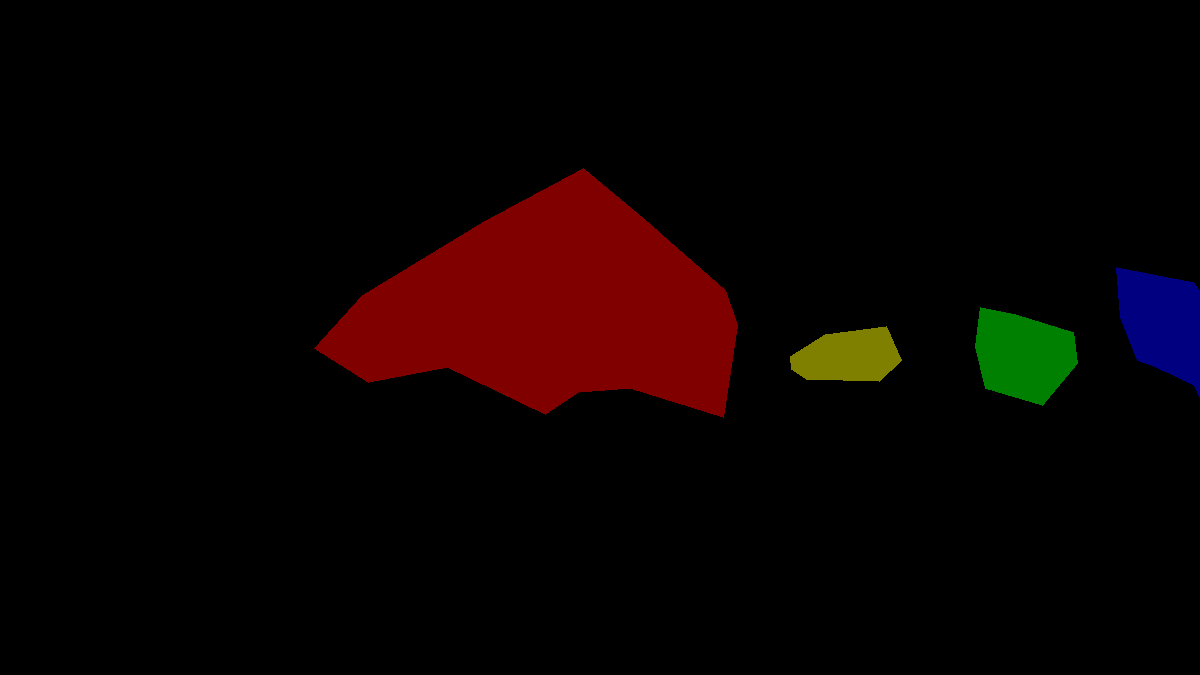fire: (314, 168, 737, 417), (1116, 267, 1200, 399), (975, 307, 1077, 405), (790, 326, 901, 381)
